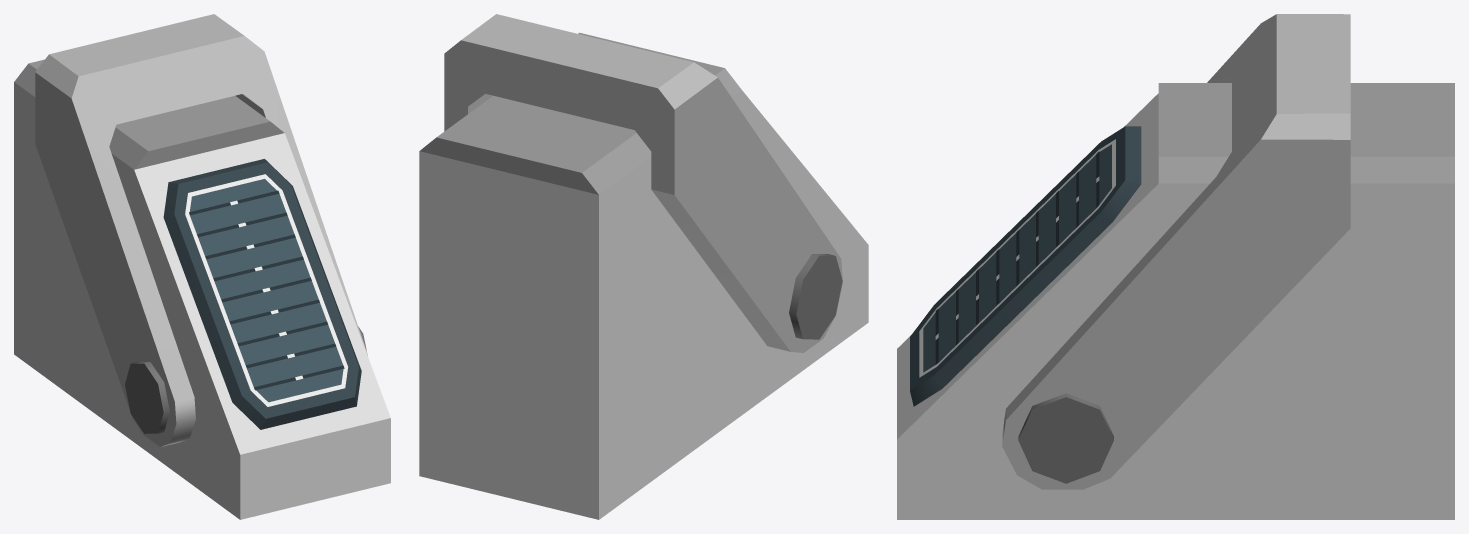
The model's file is space_station_005.fbx.
3 renders of one model, left to right at view 1: azimuth 30°, elevation 25°; view 2: azimuth 150°, elevation 25°; view 3: azimuth 270°, elevation 25°, orthographic. The views are drawn at different scales.
Parts seen in each view (by area): view 1: space_station_005; view 2: space_station_005; view 3: space_station_005.
Boxes of the visible parts, <box> form: space_station_005: <box>14,14,390,519</box>; space_station_005: <box>419,14,868,519</box>; space_station_005: <box>897,14,1454,519</box>.
Bounding box in the file's own units: 771 × 1471 × 1195.
